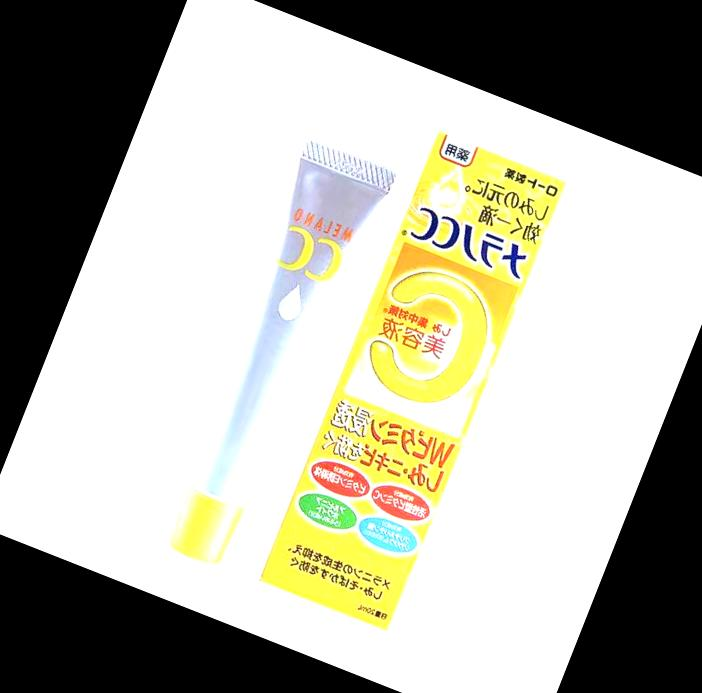cosmetic: (148, 136, 402, 578)
